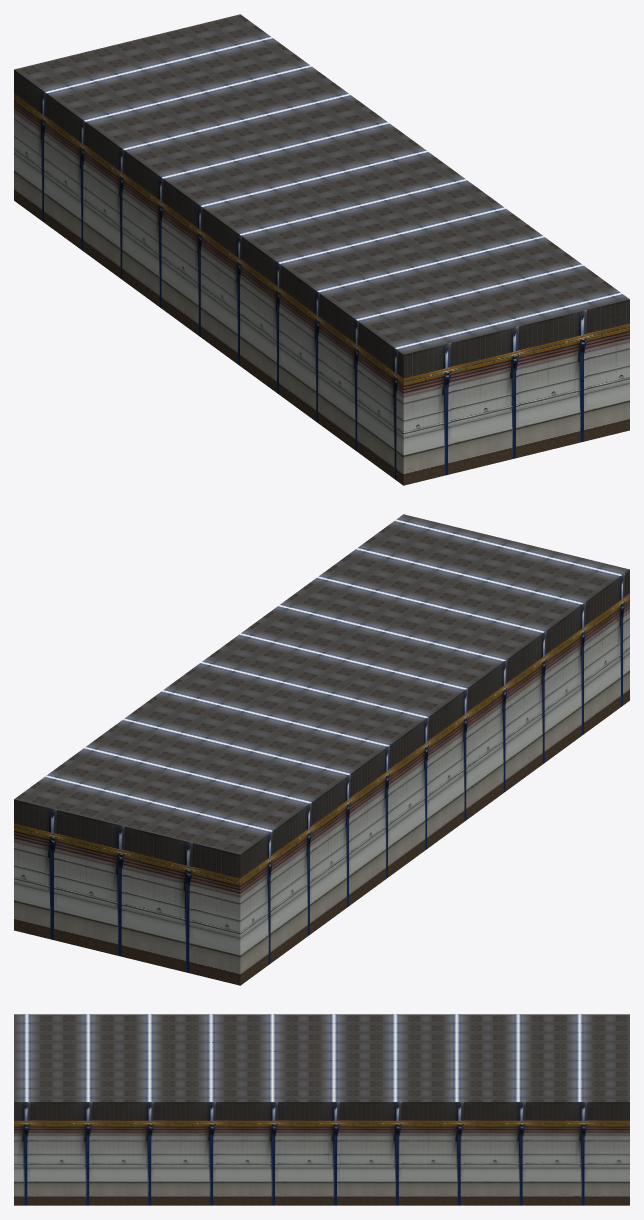
The model's file is cyberzoo_outer_walls.dae.
3 renders of one model, top to bottom at view 1: azimuth 30°, elevation 25°; view 2: azimuth 150°, elevation 25°; view 3: azimuth 270°, elevation 25°, orthographic. The views are drawn at different scales.
Visible parts, largest first — view 1: instance_0 (×2); view 2: instance_0 (×2); view 3: instance_0 (×2).
Boxes of the visible parts, x1=… form: instance_0 (×2): x1=14, y1=14, x2=629, y2=485; instance_0 (×2): x1=14, y1=514, x2=629, y2=985; instance_0 (×2): x1=14, y1=1014, x2=629, y2=1205.
Size of the model in its own units: 925 by 2756 by 512.
